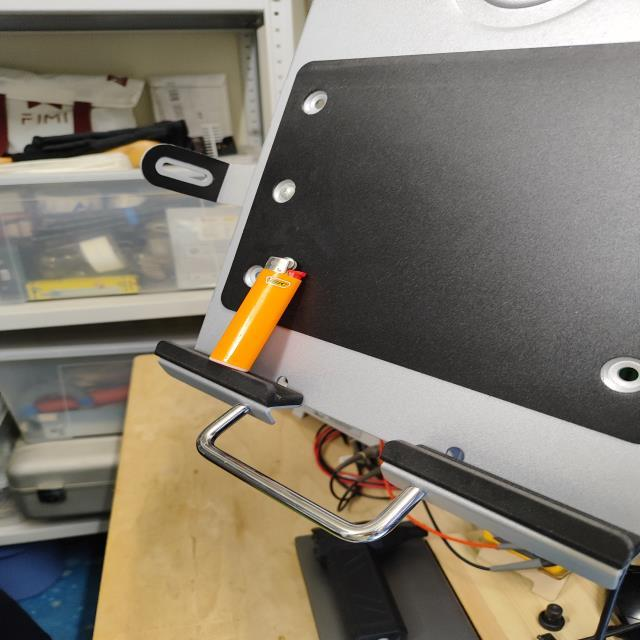lighter: (210, 258, 304, 371)
